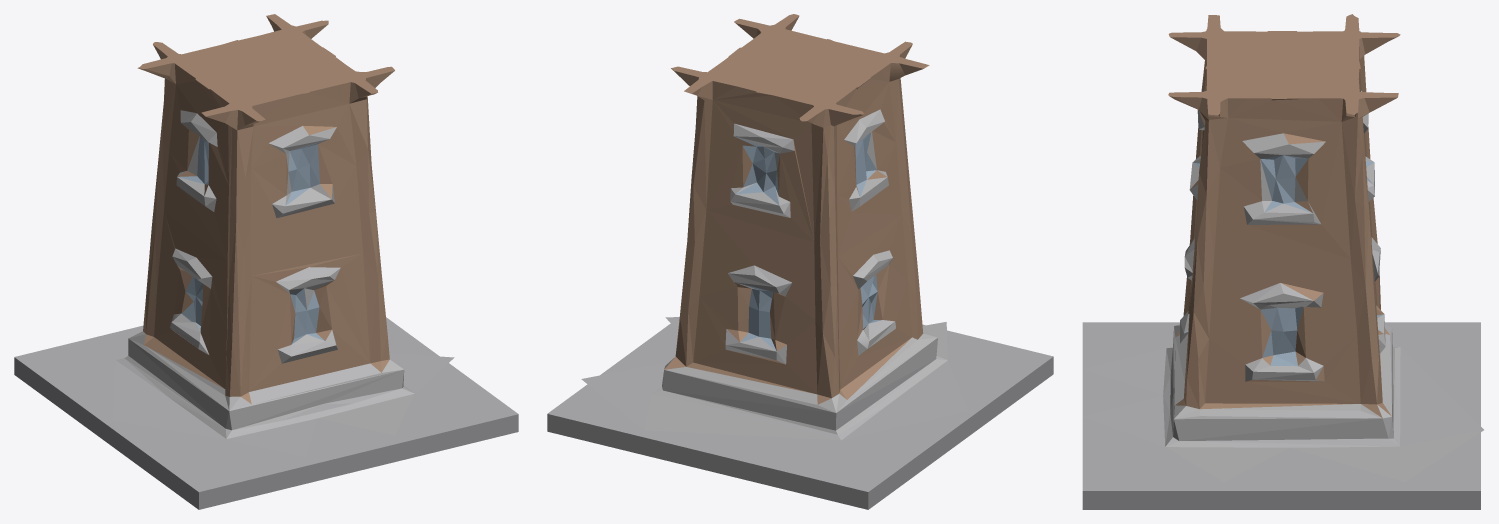
The model's file is etape-2.glb.
3 views of the same model, side by side, from view 1: azimuth 30°, elevation 25°; view 2: azimuth 150°, elevation 25°; view 3: azimuth 270°, elevation 25° (orthographic). The views are drawn at different scales.
Parts seen in each view (by area): view 1: geometry_0; view 2: geometry_0; view 3: geometry_0.
Boxes of the visible parts, x1,y1,x2,y2 form: geometry_0: (14, 14, 518, 509); geometry_0: (547, 14, 1053, 509); geometry_0: (1082, 14, 1483, 509).
Bounding box in the file's own units: 0.6639 × 0.6599 × 0.6662.
